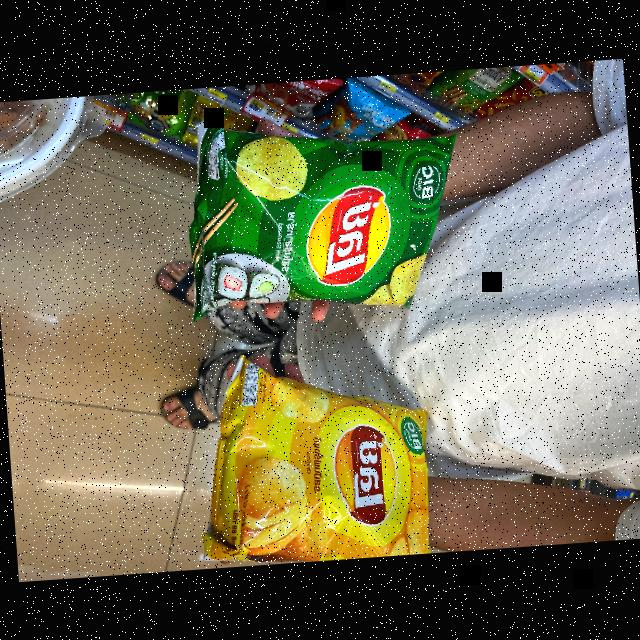snack_bag: (174, 103, 466, 337), (185, 340, 448, 569)
